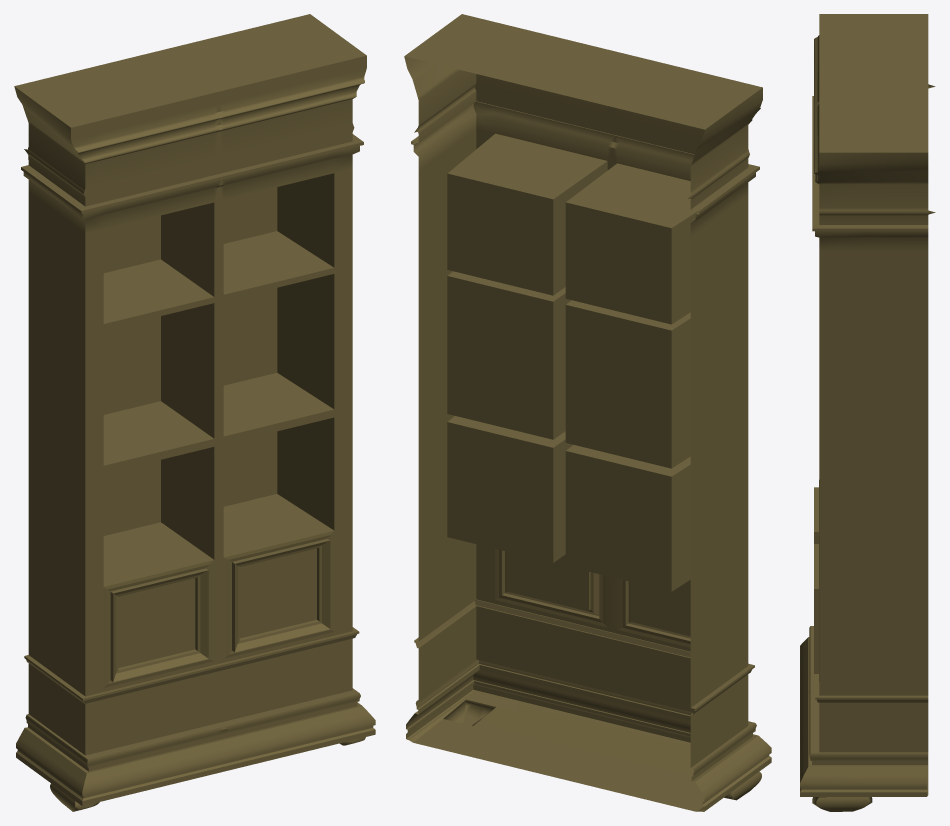
The model's file is BookShelf.fbx.
3 views of the same model, side by side, from view 1: azimuth 30°, elevation 25°; view 2: azimuth 150°, elevation 25°; view 3: azimuth 270°, elevation 25° (orthographic). The views are drawn at different scales.
Visible parts, largest first — view 1: pCube82; view 2: pCube82; view 3: pCube82.
Part boxes in pixels (<box>): pCube82: <box>14,14,375,811</box>; pCube82: <box>404,14,771,811</box>; pCube82: <box>800,14,935,811</box>.
Bounding box in the file's own units: 4.87 × 10.85 × 2.01.
